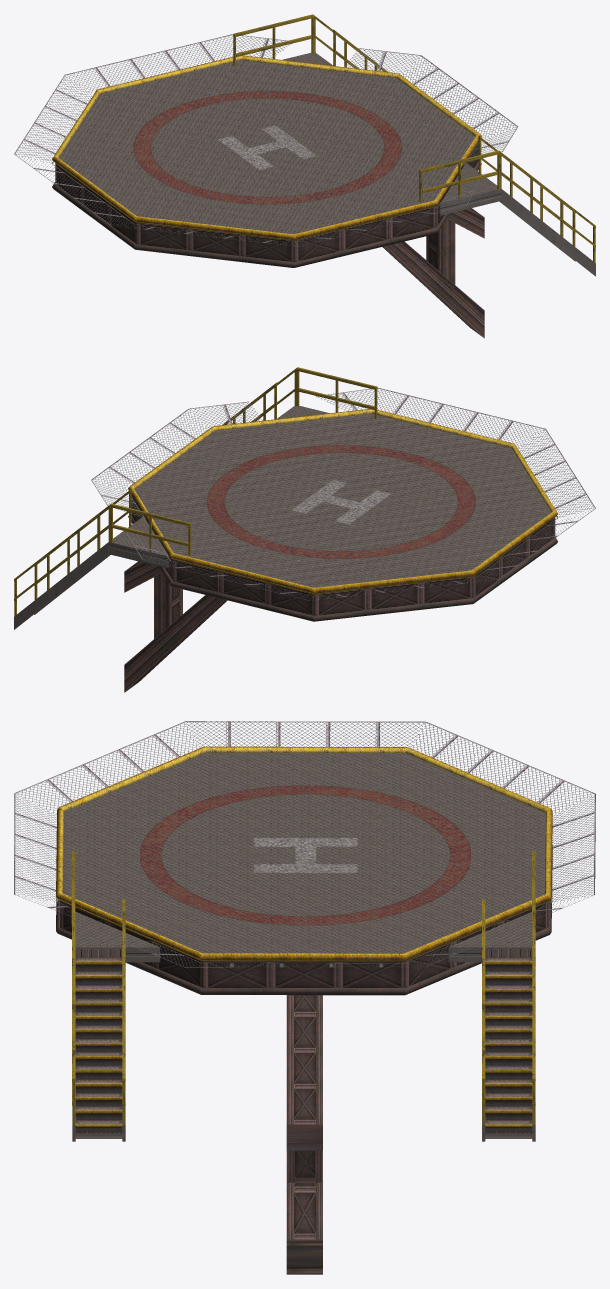
The model's file is OPLT04.glb.
The picture shows the model from 3 angles, top to bottom: view 1: azimuth 30°, elevation 25°; view 2: azimuth 150°, elevation 25°; view 3: azimuth 270°, elevation 25°; orthographic projection. The views are drawn at different scales.
Visible parts, largest first — view 1: _OPLT04; view 2: _OPLT04; view 3: _OPLT04.
Part boxes in pixels (x1,y1,x2,y2): _OPLT04: (14, 14, 595, 338); _OPLT04: (14, 367, 595, 692); _OPLT04: (14, 721, 595, 1274).
Size of the model in its own units: 19 by 11.08 by 17.61.
12 materials, 12 textured.
